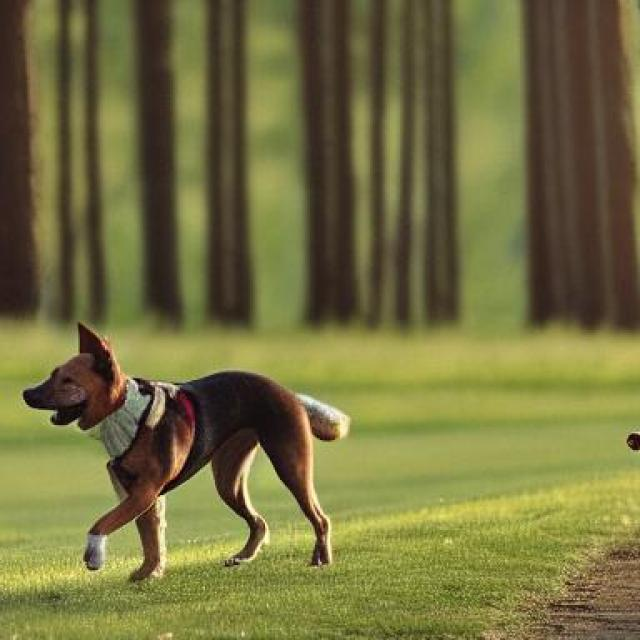Dog: (22, 319, 351, 582)
